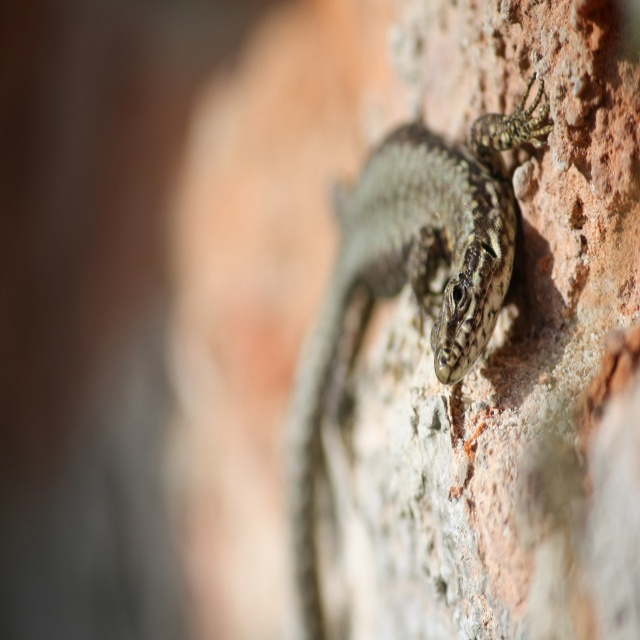Lizard: (227, 85, 551, 630)
